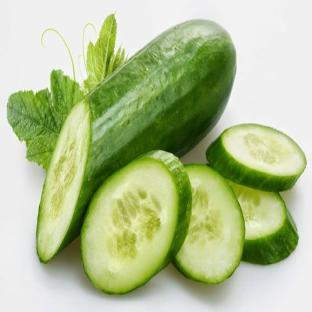Cucumber: (37, 21, 235, 262), (81, 151, 192, 293), (174, 165, 245, 283), (206, 124, 306, 191), (230, 182, 298, 264)
